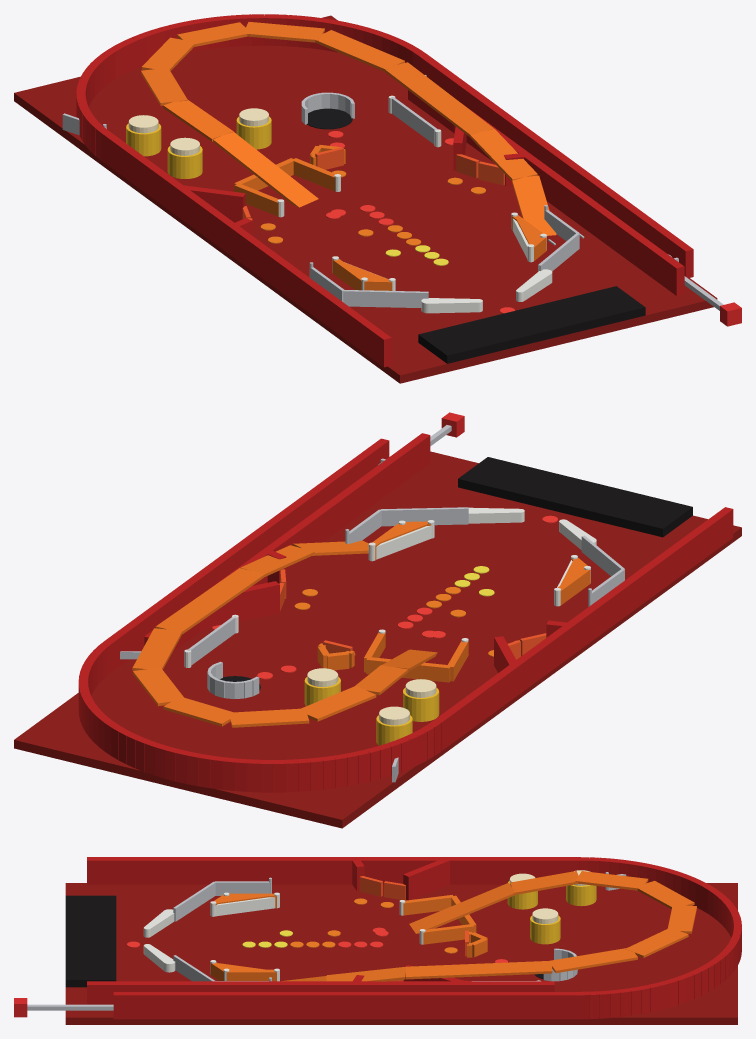
Rendered from rodent_playfield_blockout.obj.
3 views of the same model, one above another, from view 1: azimuth 30°, elevation 25°; view 2: azimuth 150°, elevation 25°; view 3: azimuth 270°, elevation 25° (orthographic). The views are drawn at different scales.
Parts seen in each view (by area): view 1: Playfield_board, Wall01_wood, Ramp_wire, Apron, Wall02_wood, Wall08_plastic, Wall04_metal, Wall05_metal, Wall10_wood, Wall15_metal, Flipper_L, PopBumper3_body (+6 smaller); view 2: Playfield_board, Wall01_wood, Ramp_wire, Apron, Wall02_wood, Wall05_metal, Wall13_wood, Wall08_plastic, Wall04_metal, Wall15_metal, Wall14_metal, PopBumper3_body (+5 smaller); view 3: Playfield_board, Wall01_wood, Ramp_wire, Wall02_wood, Apron, Wall08_plastic, Wall04_metal, Wall10_wood, Slingshot_L_rubber, Wall07_plastic, PopBumper2_body, PopBumper1_body (+11 smaller).
Part boxes in pixels (x1,y1,x2,y2): Playfield_board: [14, 15, 717, 383]; Wall01_wood: [76, 14, 693, 367]; Ramp_wire: [141, 22, 556, 235]; Apron: [418, 286, 645, 363]; Wall02_wood: [408, 90, 684, 295]; Wall08_plastic: [234, 158, 335, 216]; Wall04_metal: [310, 267, 428, 307]; Wall05_metal: [538, 210, 579, 271]; Wall10_wood: [182, 185, 245, 222]; Wall15_metal: [301, 92, 354, 124]; Flipper_L: [421, 298, 482, 313]; PopBumper3_body: [167, 146, 202, 178]; Playfield_board: [14, 451, 741, 828]; Wall01_wood: [78, 438, 733, 792]; Ramp_wire: [132, 540, 437, 727]; Apron: [458, 457, 692, 537]; Wall02_wood: [144, 433, 430, 652]; Wall05_metal: [349, 507, 468, 543]; Wall13_wood: [199, 581, 279, 632]; Wall08_plastic: [364, 632, 468, 682]; Wall04_metal: [581, 535, 624, 604]; Wall15_metal: [207, 661, 259, 698]; Wall14_metal: [186, 616, 236, 665]; PopBumper3_body: [403, 687, 439, 721]; Playfield_board: [65, 883, 737, 1024]; Wall01_wood: [87, 857, 741, 1019]; Ramp_wire: [281, 871, 696, 981]; Wall02_wood: [87, 981, 554, 1004]; Apron: [65, 895, 116, 987]; Wall08_plastic: [403, 895, 476, 944]; Wall04_metal: [173, 881, 269, 921]; Wall10_wood: [403, 860, 449, 900]; Slingshot_L_rubber: [215, 897, 275, 916]; Wall07_plastic: [210, 962, 276, 981]; PopBumper2_body: [530, 915, 560, 944]; PopBumper1_body: [566, 884, 596, 906].
Bounding box in the file's own units: 0.6888 × 0.1008 × 1.53.
